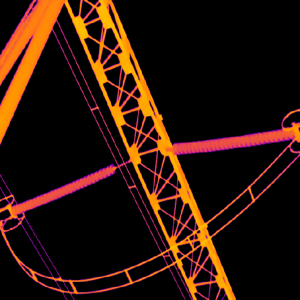insulator: (9, 163, 115, 218), (170, 124, 293, 155)
